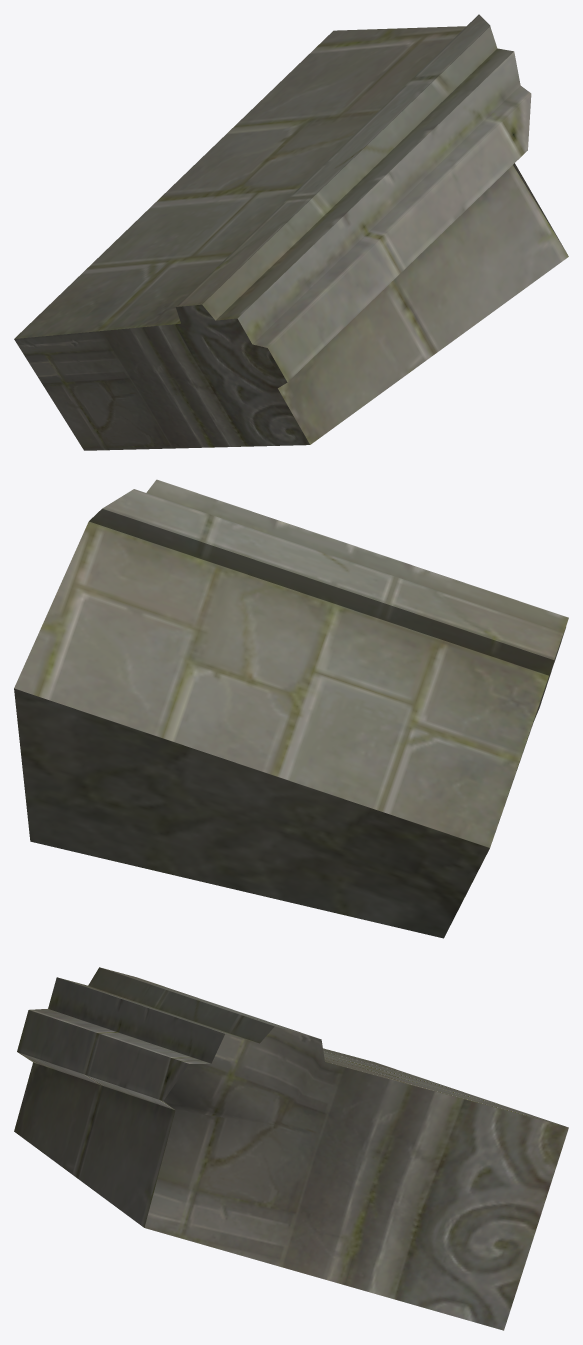
Rendered from wlf_wujian06_jgc.FBX.
The picture shows the model from 3 angles, top to bottom: view 1: azimuth 30°, elevation 25°; view 2: azimuth 150°, elevation 25°; view 3: azimuth 270°, elevation 25°; orthographic projection. The views are drawn at different scales.
Parts seen in each view (by area): view 1: wlf_wujian06_jgc; view 2: wlf_wujian06_jgc; view 3: wlf_wujian06_jgc.
Part boxes in pixels (x1=…): wlf_wujian06_jgc: x1=14, y1=14, x2=568, y2=450; wlf_wujian06_jgc: x1=14, y1=479, x2=568, y2=938; wlf_wujian06_jgc: x1=14, y1=967, x2=568, y2=1330.
Size of the model in its own units: 18.85 by 14.42 by 19.41.
